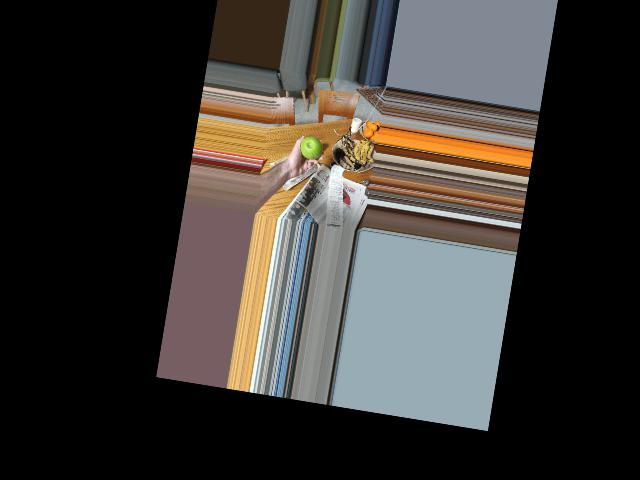apple: (297, 131, 325, 163)
